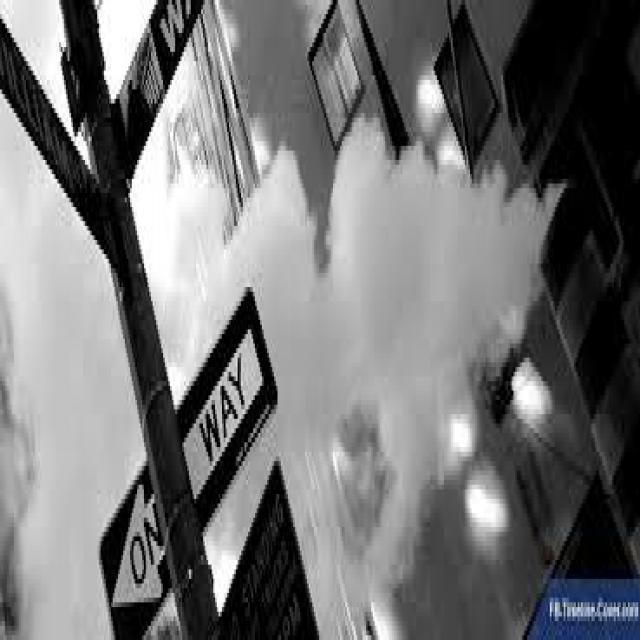smoke: (236, 174, 572, 551), (7, 170, 127, 636)
